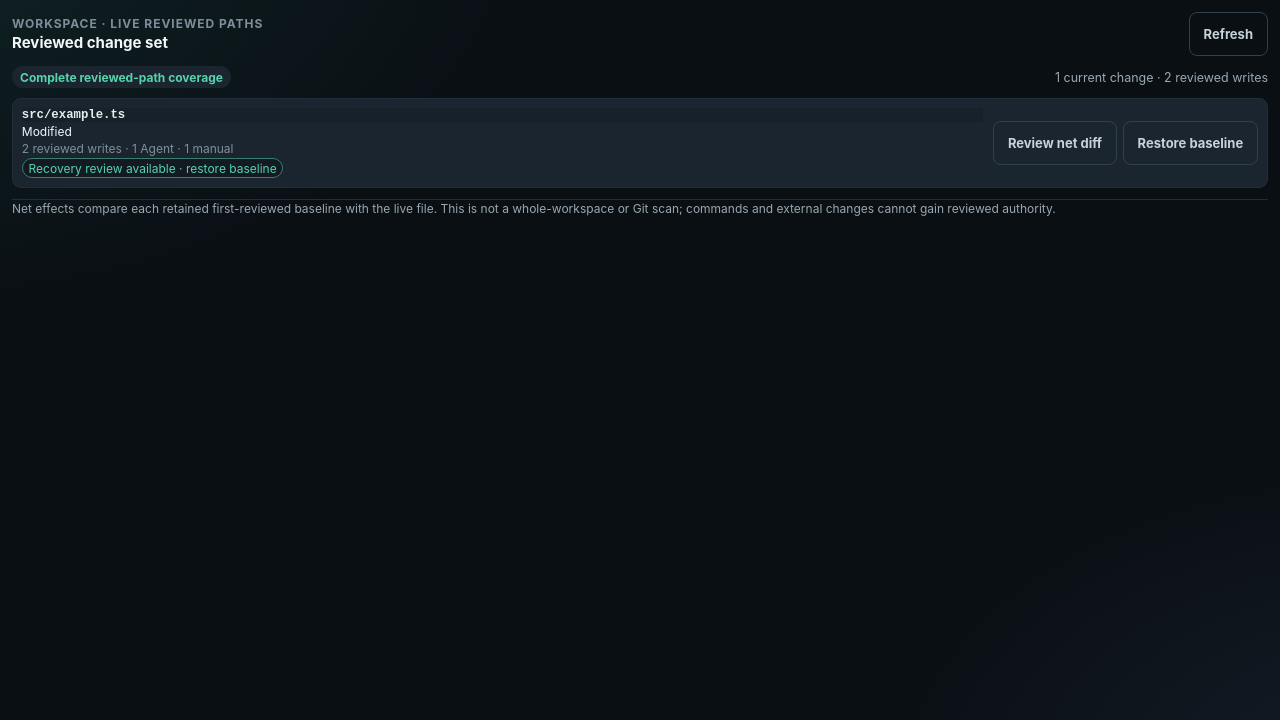
AgentChangeSetPanel › turns a stale apply into an explicit fresh-preview recovery path
Later steps or results of the test are not shown.
expect the text "Modified" is shown: met, box [22,124,72,139]
Click the button "Restore baseline" at (1190, 143), box [1123,121,1258,165]
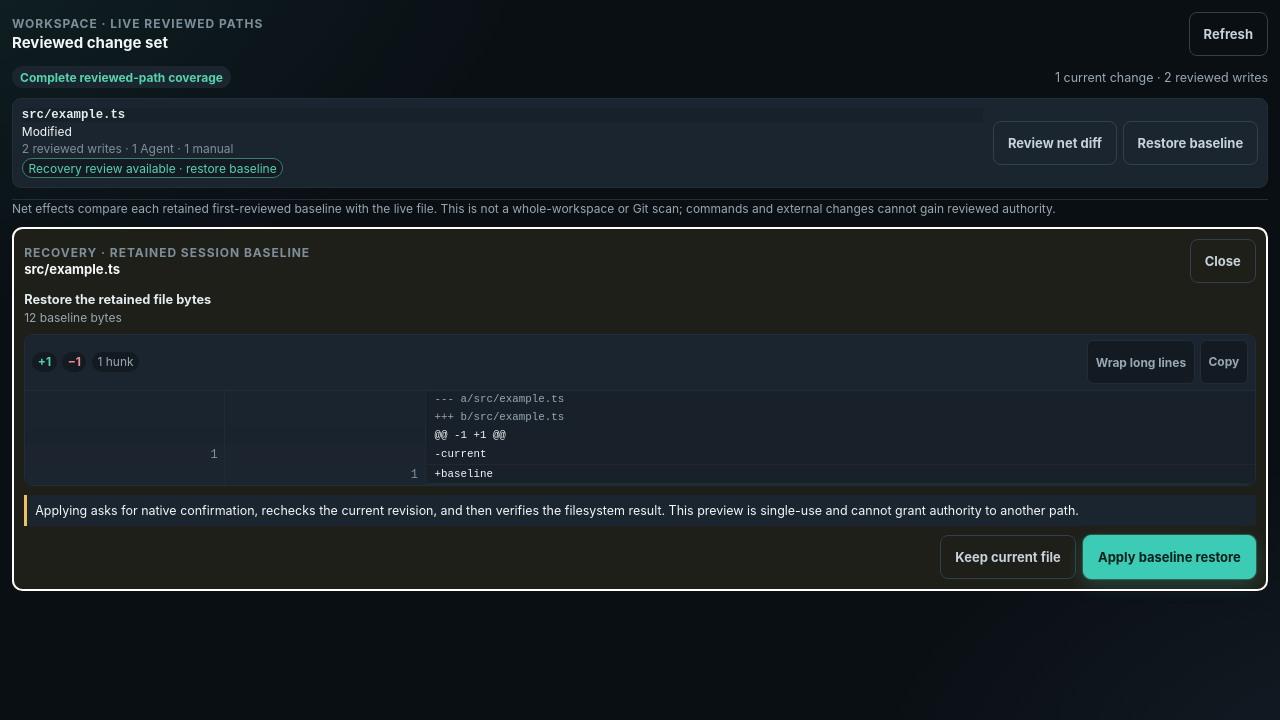
Click the button "Apply baseline restore" at (1169, 557), box [1083,535,1256,579]
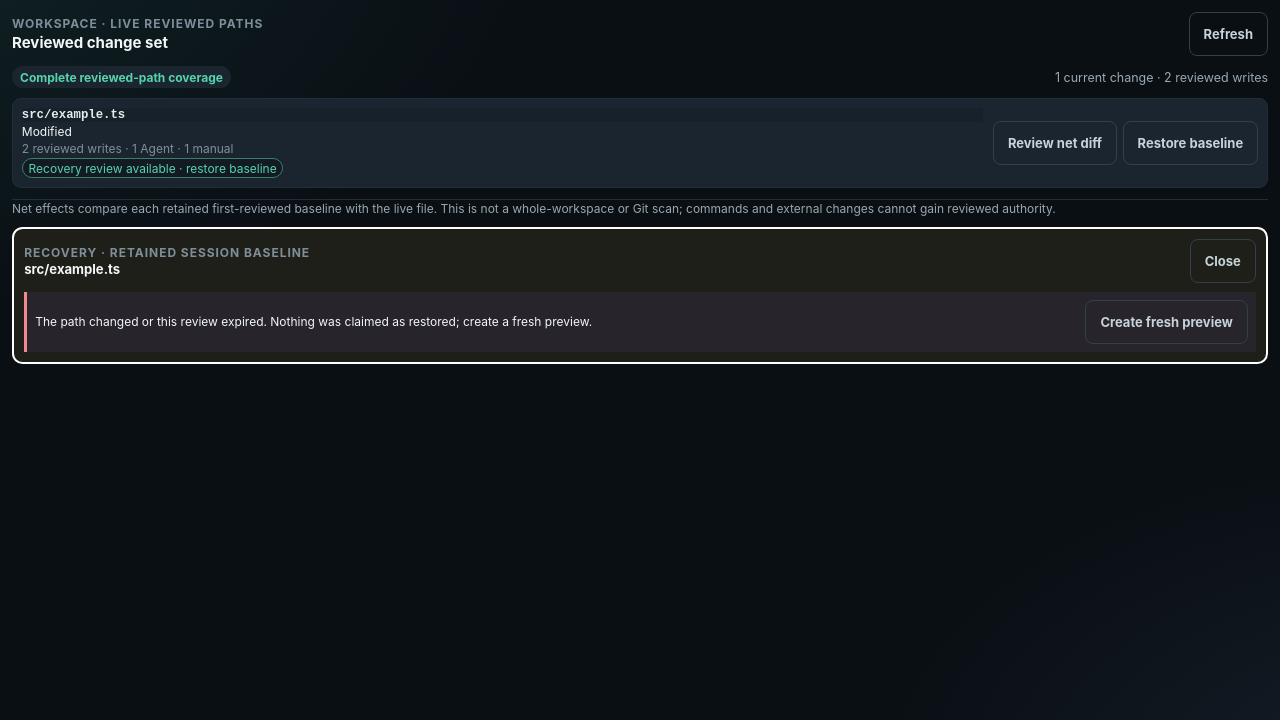
expect the message shows "Nothing was claimed as restored": met, box [35,314,592,329]
